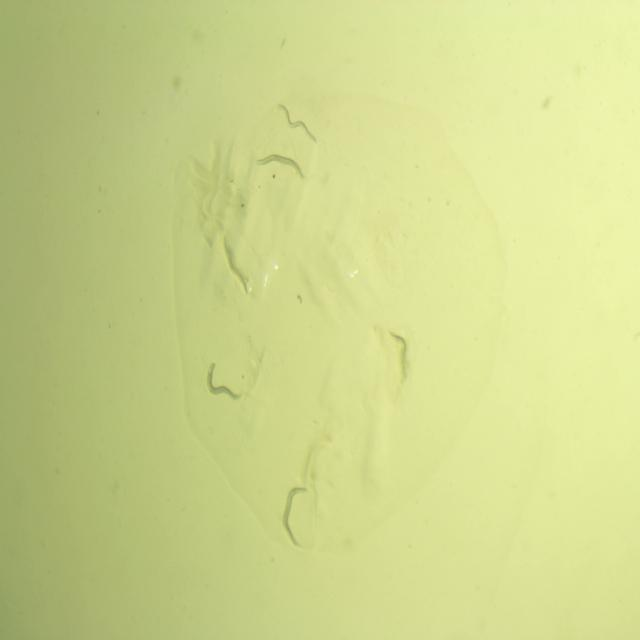worm: (274, 99, 318, 146), (252, 147, 308, 183), (220, 235, 252, 298), (280, 483, 311, 547), (204, 358, 243, 402), (387, 330, 412, 390)
